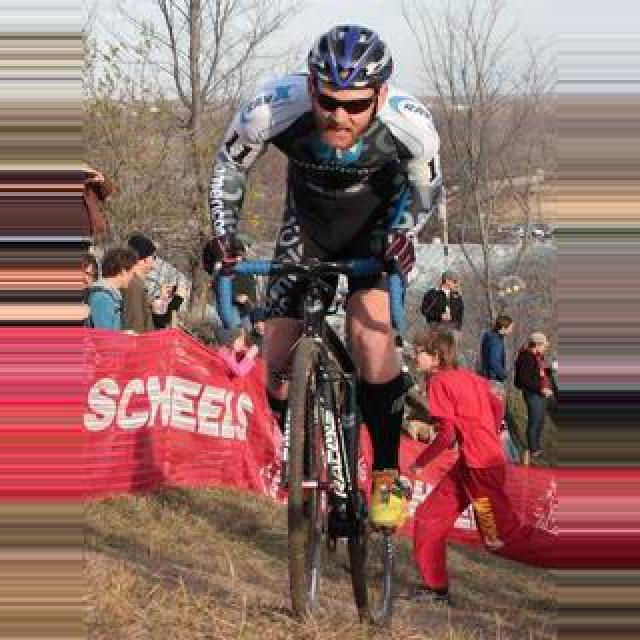MC-Bike: (204, 20, 438, 526), (406, 328, 532, 590), (124, 234, 188, 332), (82, 242, 150, 332), (514, 332, 558, 466), (478, 314, 516, 396)
Person: (256, 246, 402, 632), (362, 474, 412, 630)
